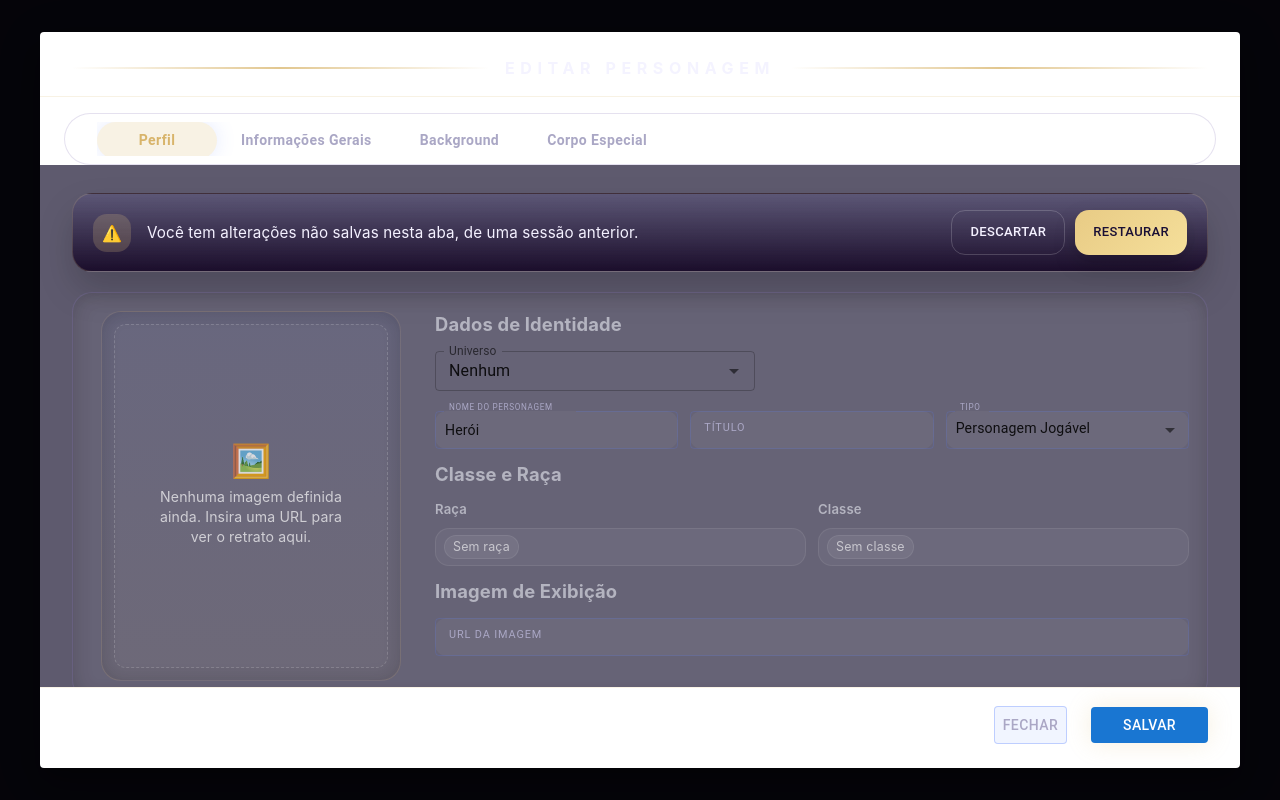
Test case: InfoModal / Background rich text › carrega background antigo em texto simples sem perder o conteúdo
The width and height of the screenshot is (1280, 800).
Click the tab "Background".
click(459, 140)  # box [396,122,523,159]
(page scrolled)
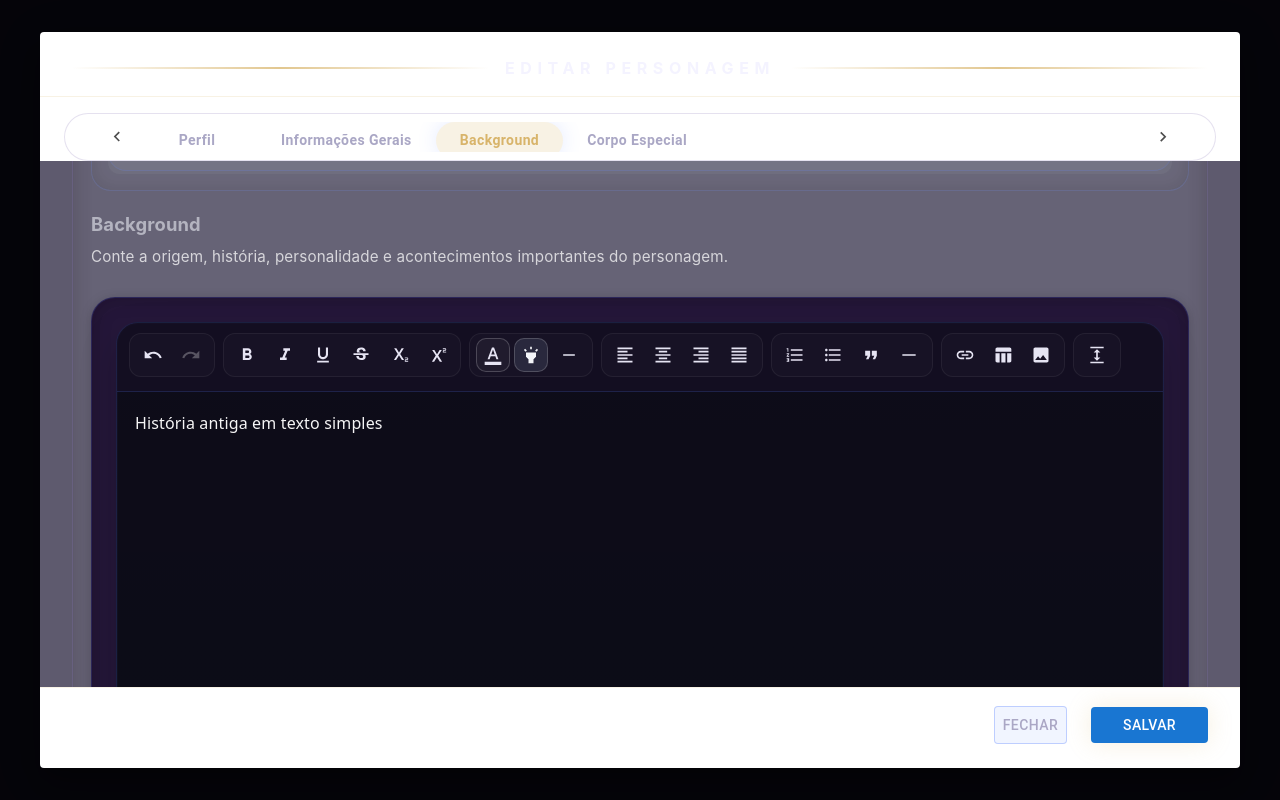
Expected: the text box "História antiga em texto simples" is shown, [135,412,383,434]
